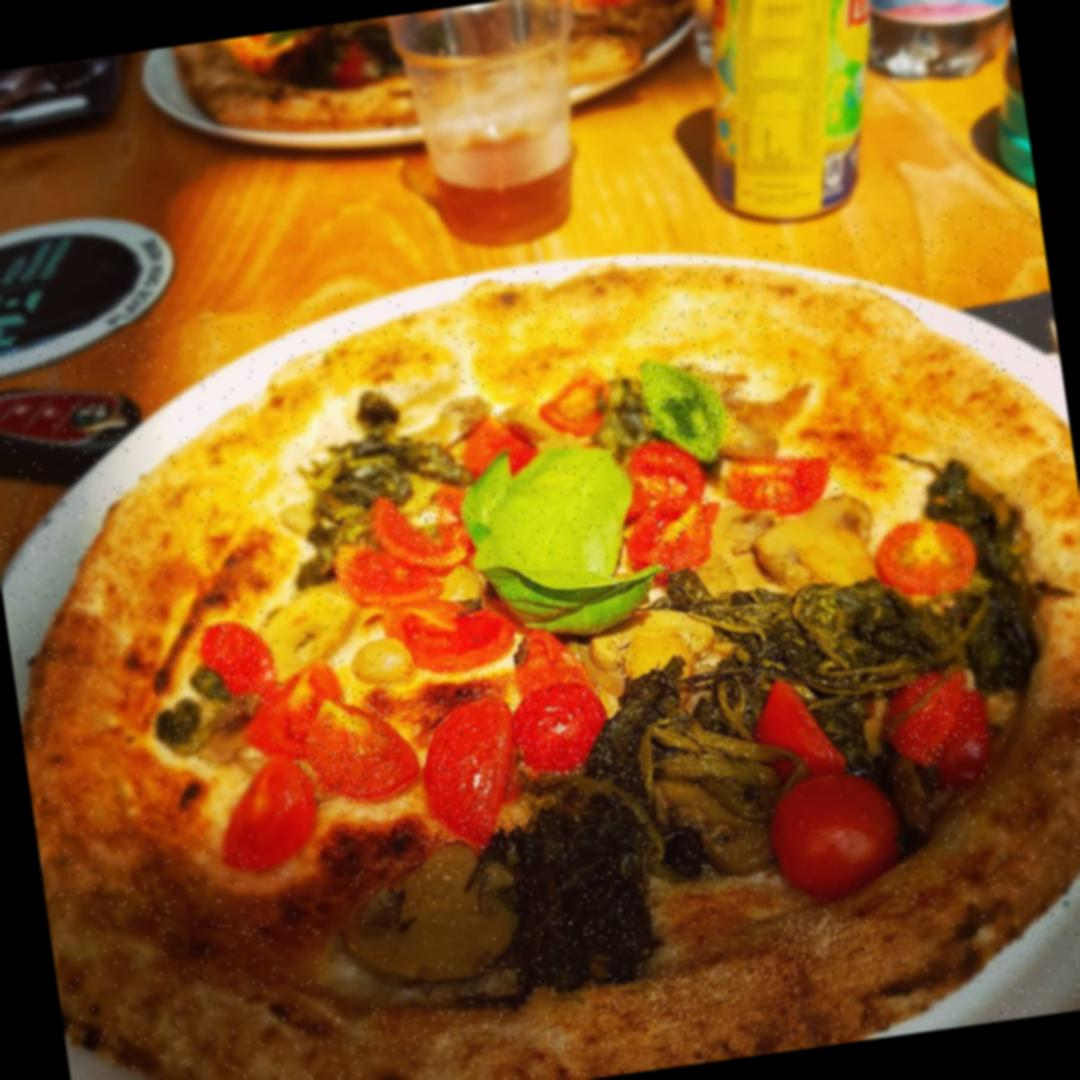Basil: (467, 438, 666, 659), (633, 348, 748, 473)
Mushroom: (323, 836, 516, 1007), (736, 496, 878, 602)
Pizza: (0, 196, 1080, 1080)
Tomatoes: (758, 676, 899, 901), (322, 482, 483, 598), (418, 688, 524, 845), (288, 684, 406, 808), (203, 763, 324, 872), (384, 588, 528, 675), (508, 671, 614, 782), (630, 444, 717, 576), (193, 609, 282, 717), (896, 670, 985, 768), (882, 510, 974, 600), (528, 368, 614, 442), (736, 450, 842, 509)
